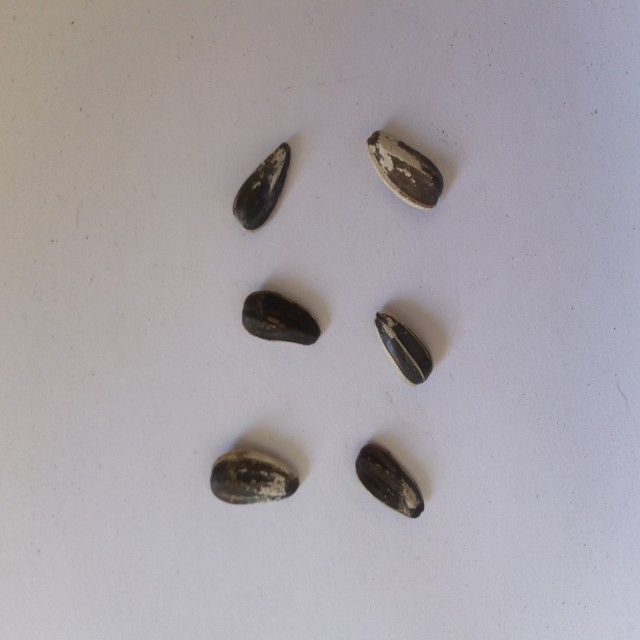girasol: (362, 124, 451, 218), (225, 136, 303, 236), (349, 436, 429, 529), (238, 283, 329, 355), (204, 445, 303, 511), (368, 303, 438, 394)
